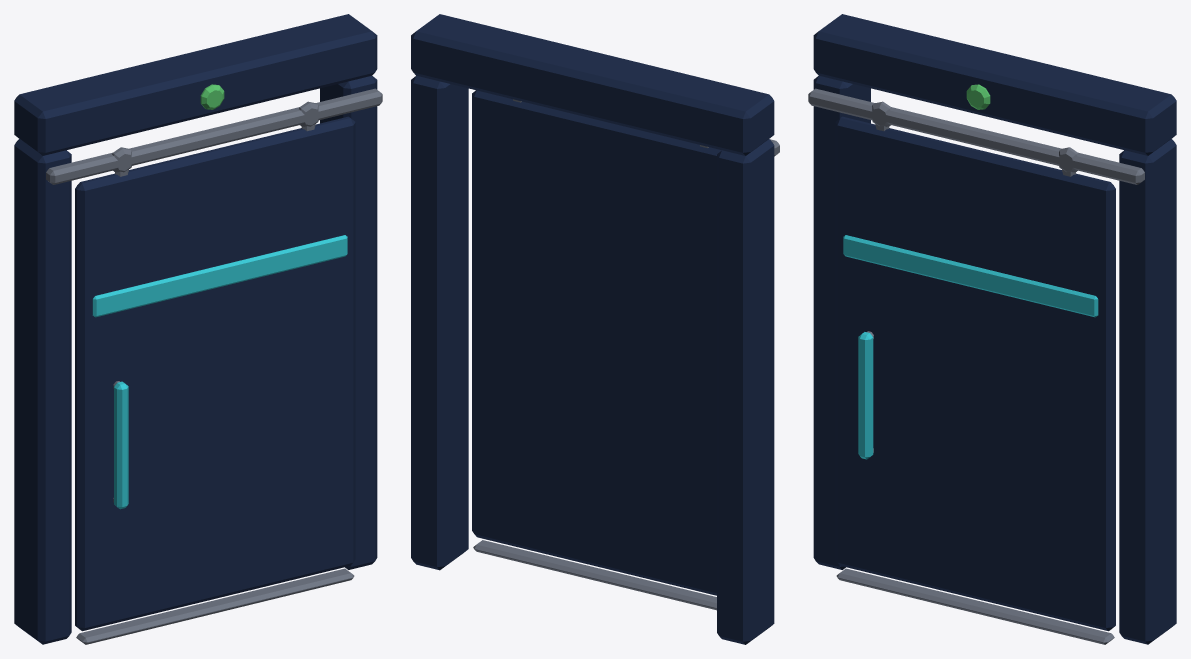
Rendered from sliding_door.obj.
The picture shows the model from 3 angles, left to right: view 1: azimuth 30°, elevation 25°; view 2: azimuth 150°, elevation 25°; view 3: azimuth 330°, elevation 25°; orthographic projection.
Visible parts, largest first — view 1: sliding_door; view 2: sliding_door; view 3: sliding_door.
Boxes of the visible parts, left/top/right/bottom form: sliding_door: left=14, top=14, right=382, bottom=644; sliding_door: left=411, top=14, right=779, bottom=644; sliding_door: left=808, top=14, right=1176, bottom=644.
Size of the model in its own units: 2 by 3 by 0.465.
